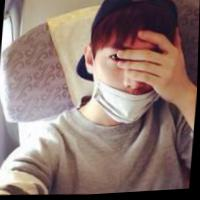WRONG: (92, 33, 168, 128)
